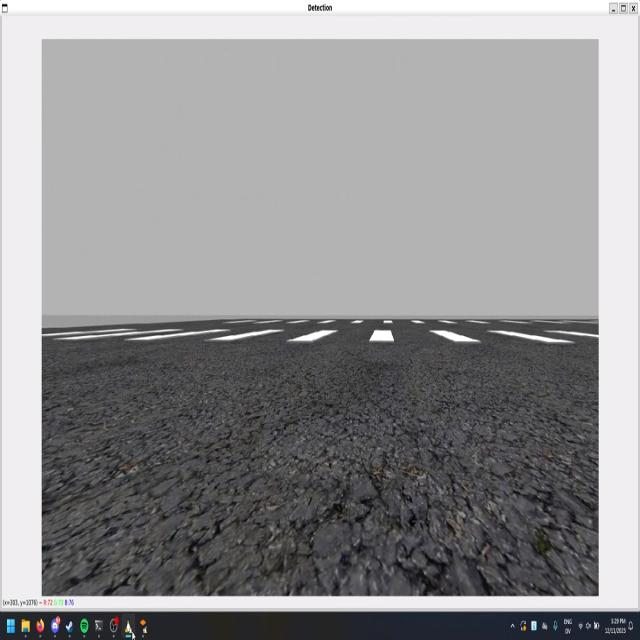crosswalk: (42, 327, 598, 344)
